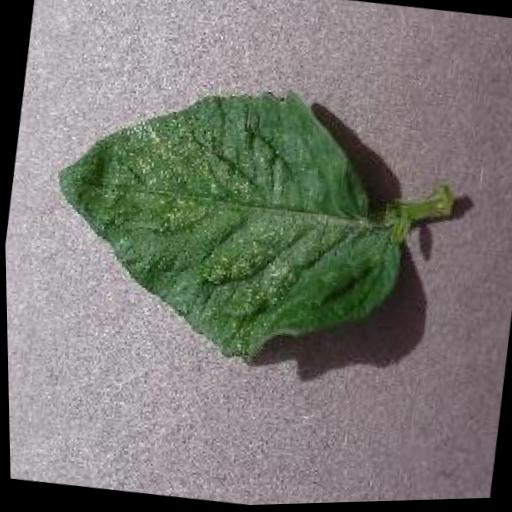Spider Mites: (28, 57, 419, 386)
